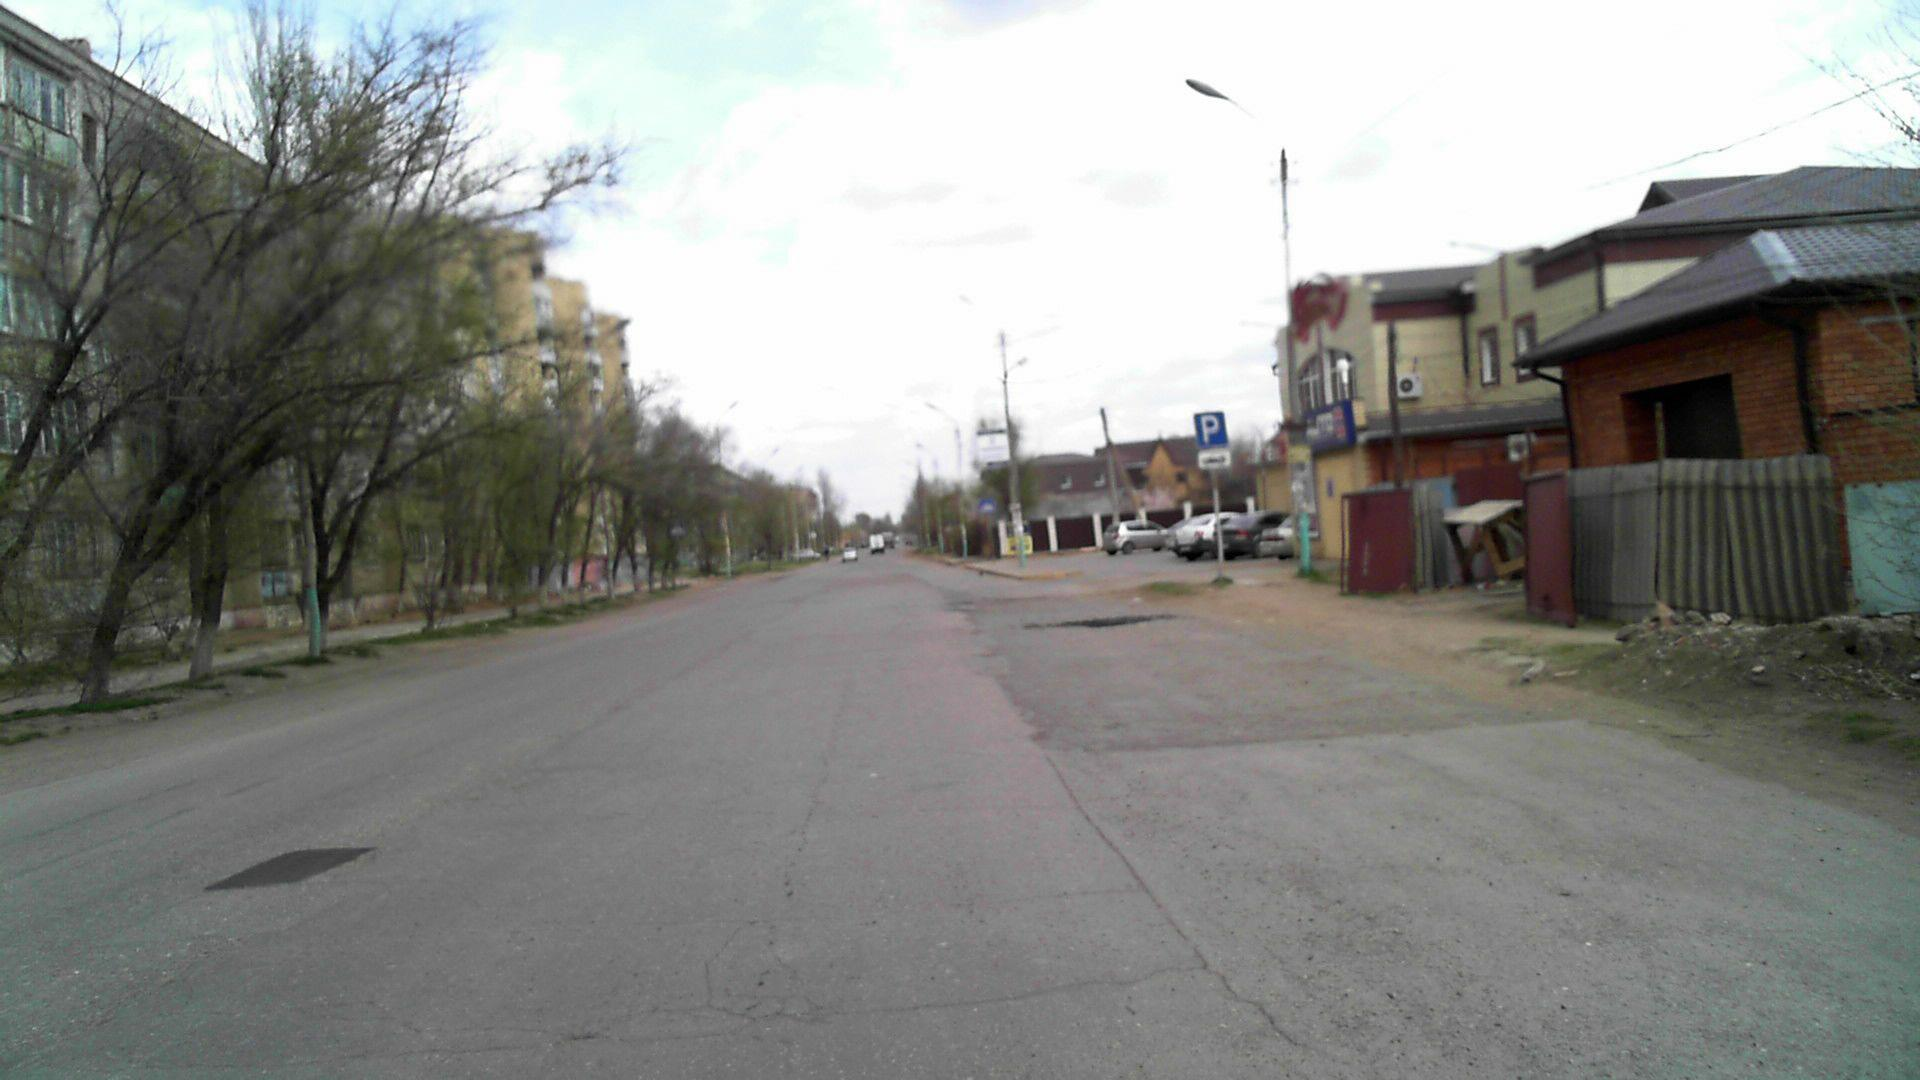5_19_1: (977, 498, 994, 516)
5_19_2: (670, 518, 684, 537)
6_4: (1191, 409, 1229, 447)
8_4_3_2: (1197, 447, 1229, 467)
